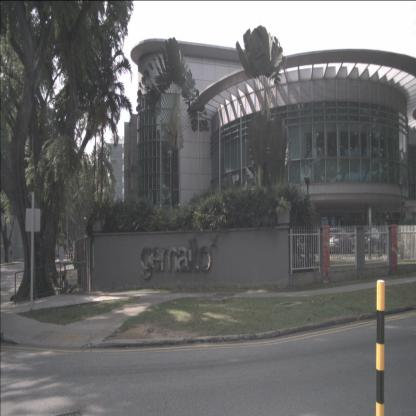vehicle-car: (351, 229, 388, 256), (324, 228, 352, 255)
